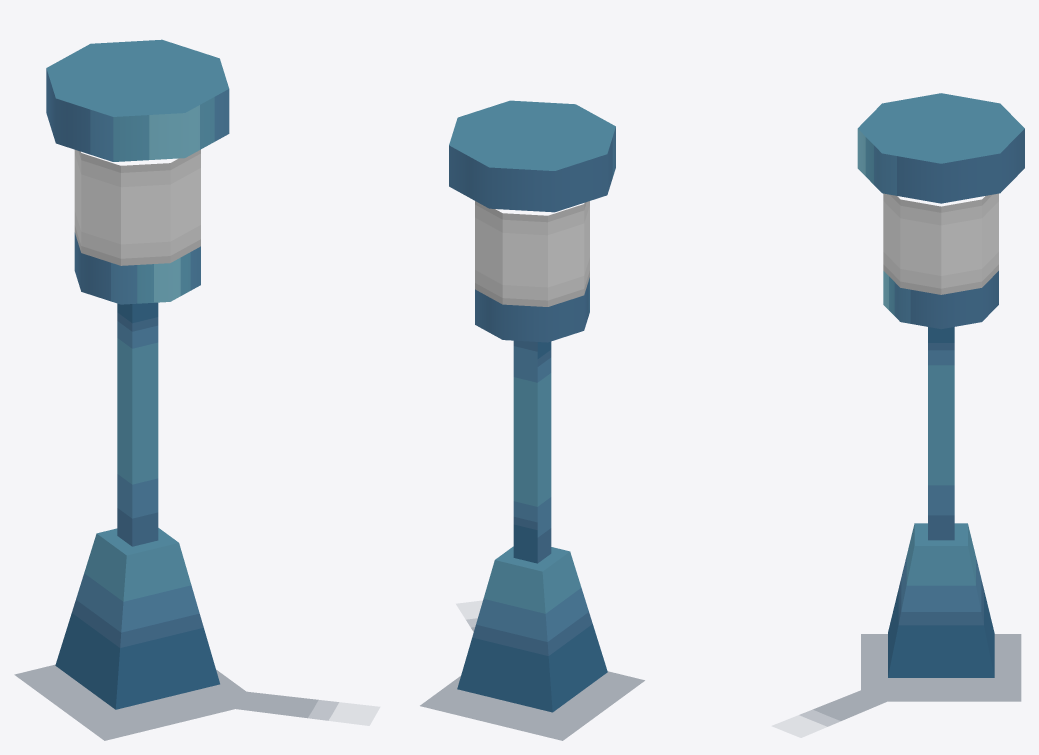
3 views of the same model, side by side, from view 1: azimuth 30°, elevation 25°; view 2: azimuth 150°, elevation 25°; view 3: azimuth 270°, elevation 25° (orthographic). The views are drawn at different scales.
Size of the model in its own units: 1.41 by 3.1 by 1.22.
3 materials, 3 textured.
